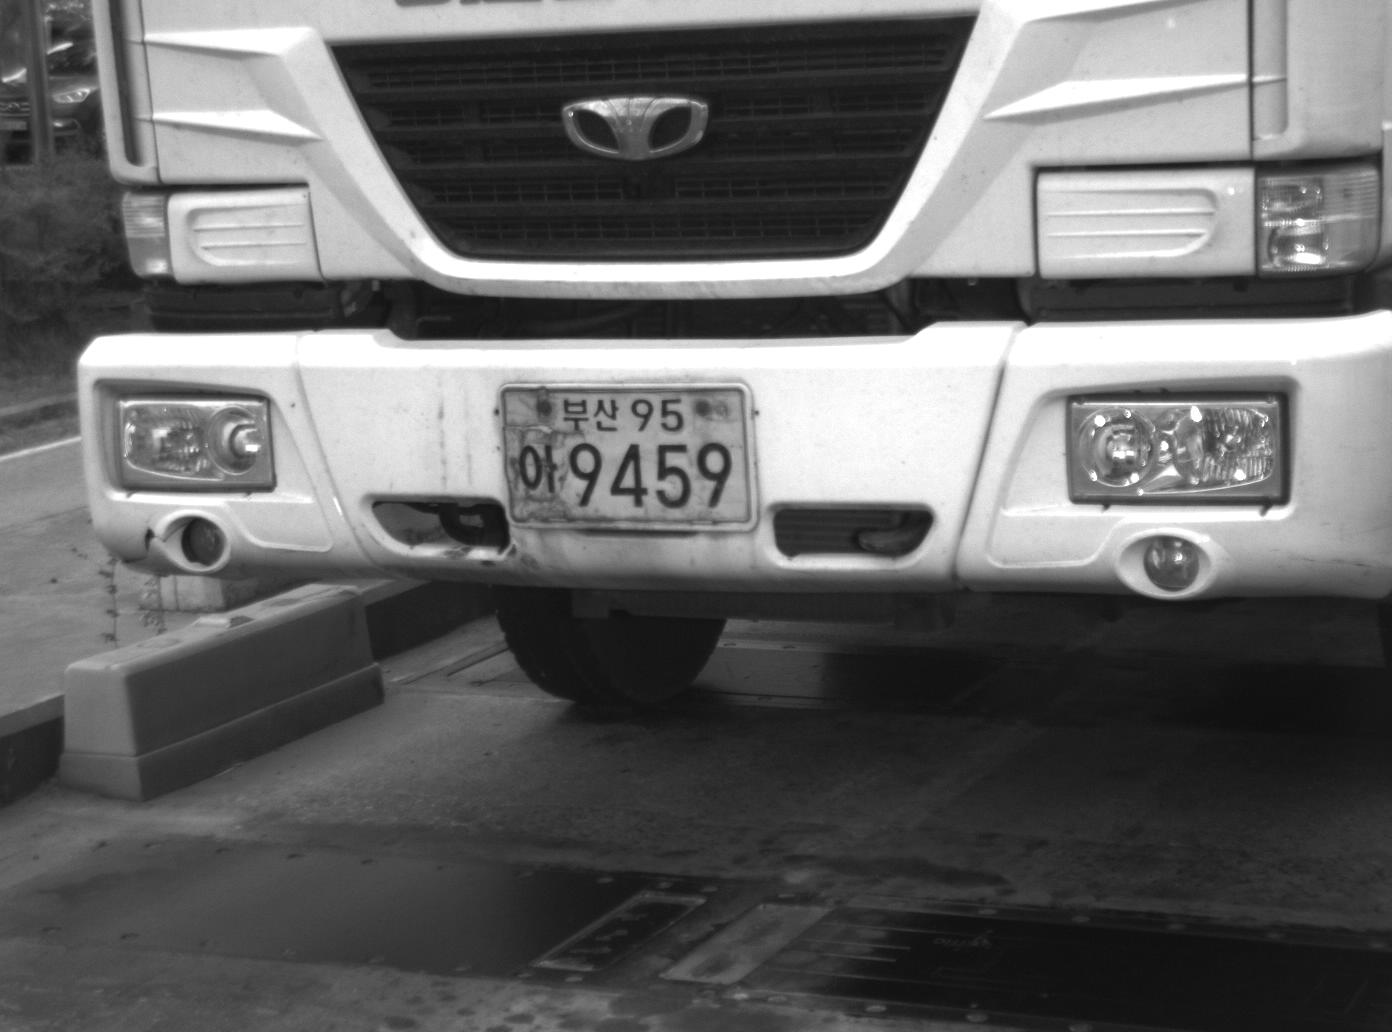car: (70, 1, 1390, 711)
plate: (494, 380, 761, 527)
